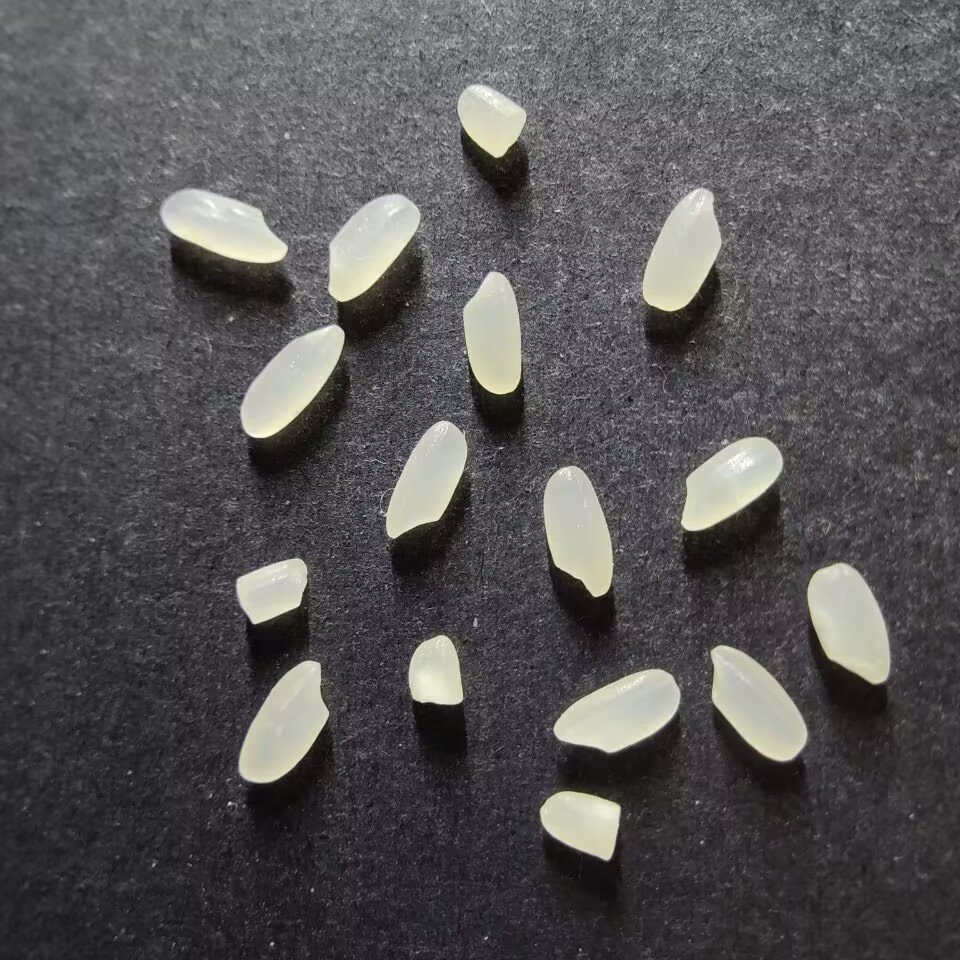broken: (539, 790, 622, 861), (456, 85, 526, 157), (235, 556, 308, 624), (407, 634, 464, 705)
rice: (239, 324, 345, 438), (237, 659, 330, 783), (709, 645, 807, 761), (552, 669, 680, 753), (806, 562, 891, 684), (326, 194, 421, 302), (641, 186, 722, 311), (384, 420, 467, 539), (680, 436, 782, 531), (160, 189, 288, 263), (542, 465, 613, 597), (461, 270, 522, 394)
